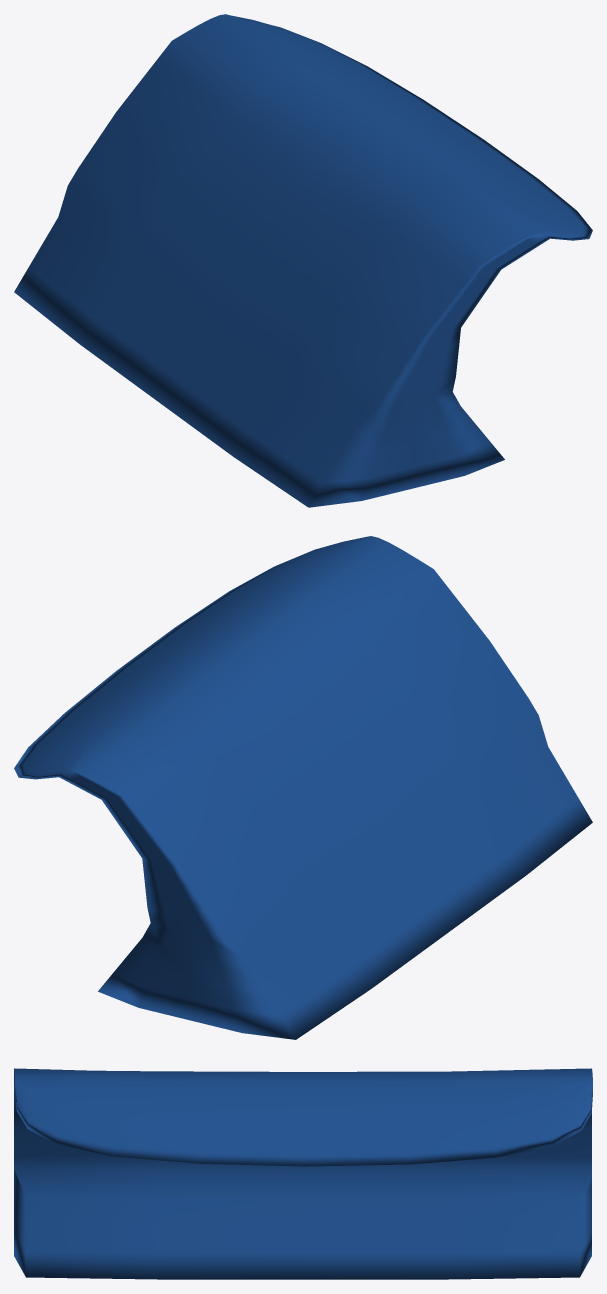
The model's file is Wave.glb.
3 renders of one model, top to bottom at view 1: azimuth 30°, elevation 25°; view 2: azimuth 150°, elevation 25°; view 3: azimuth 270°, elevation 25°, orthographic. The views are drawn at different scales.
Visible parts, largest first — view 1: Cube; view 2: Cube; view 3: Cube.
Part boxes in pixels (left/top/right/bottom): Cube: left=14, top=14, right=592, bottom=507; Cube: left=14, top=536, right=592, bottom=1039; Cube: left=14, top=1068, right=592, bottom=1279.
Bounding box in the file's own units: 8.02 × 5.25 × 13.03.
